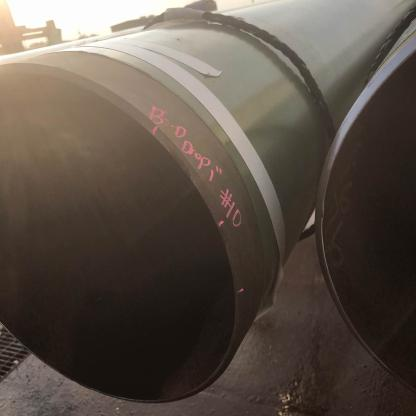Bevel: (166, 144, 198, 182), (219, 235, 231, 249)
